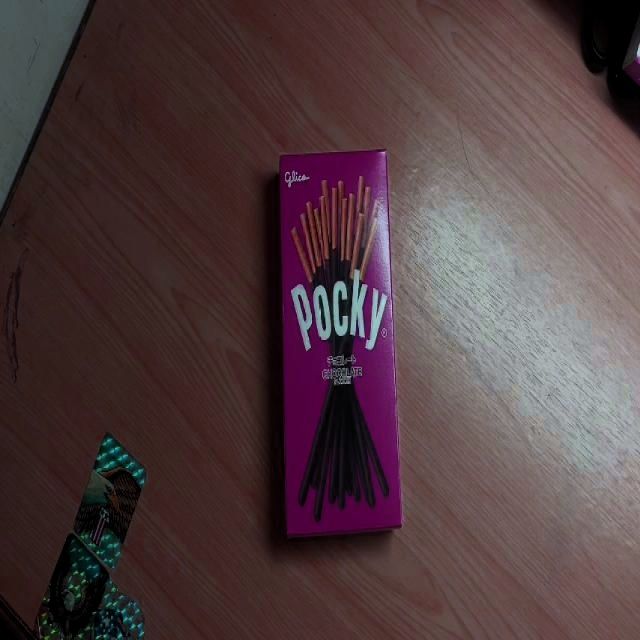Pocky: (278, 150, 402, 534)
